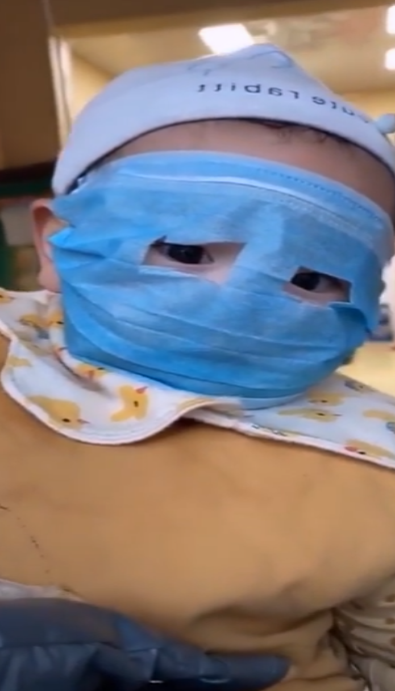mask_weared_incorrect: (25, 47, 395, 402)
